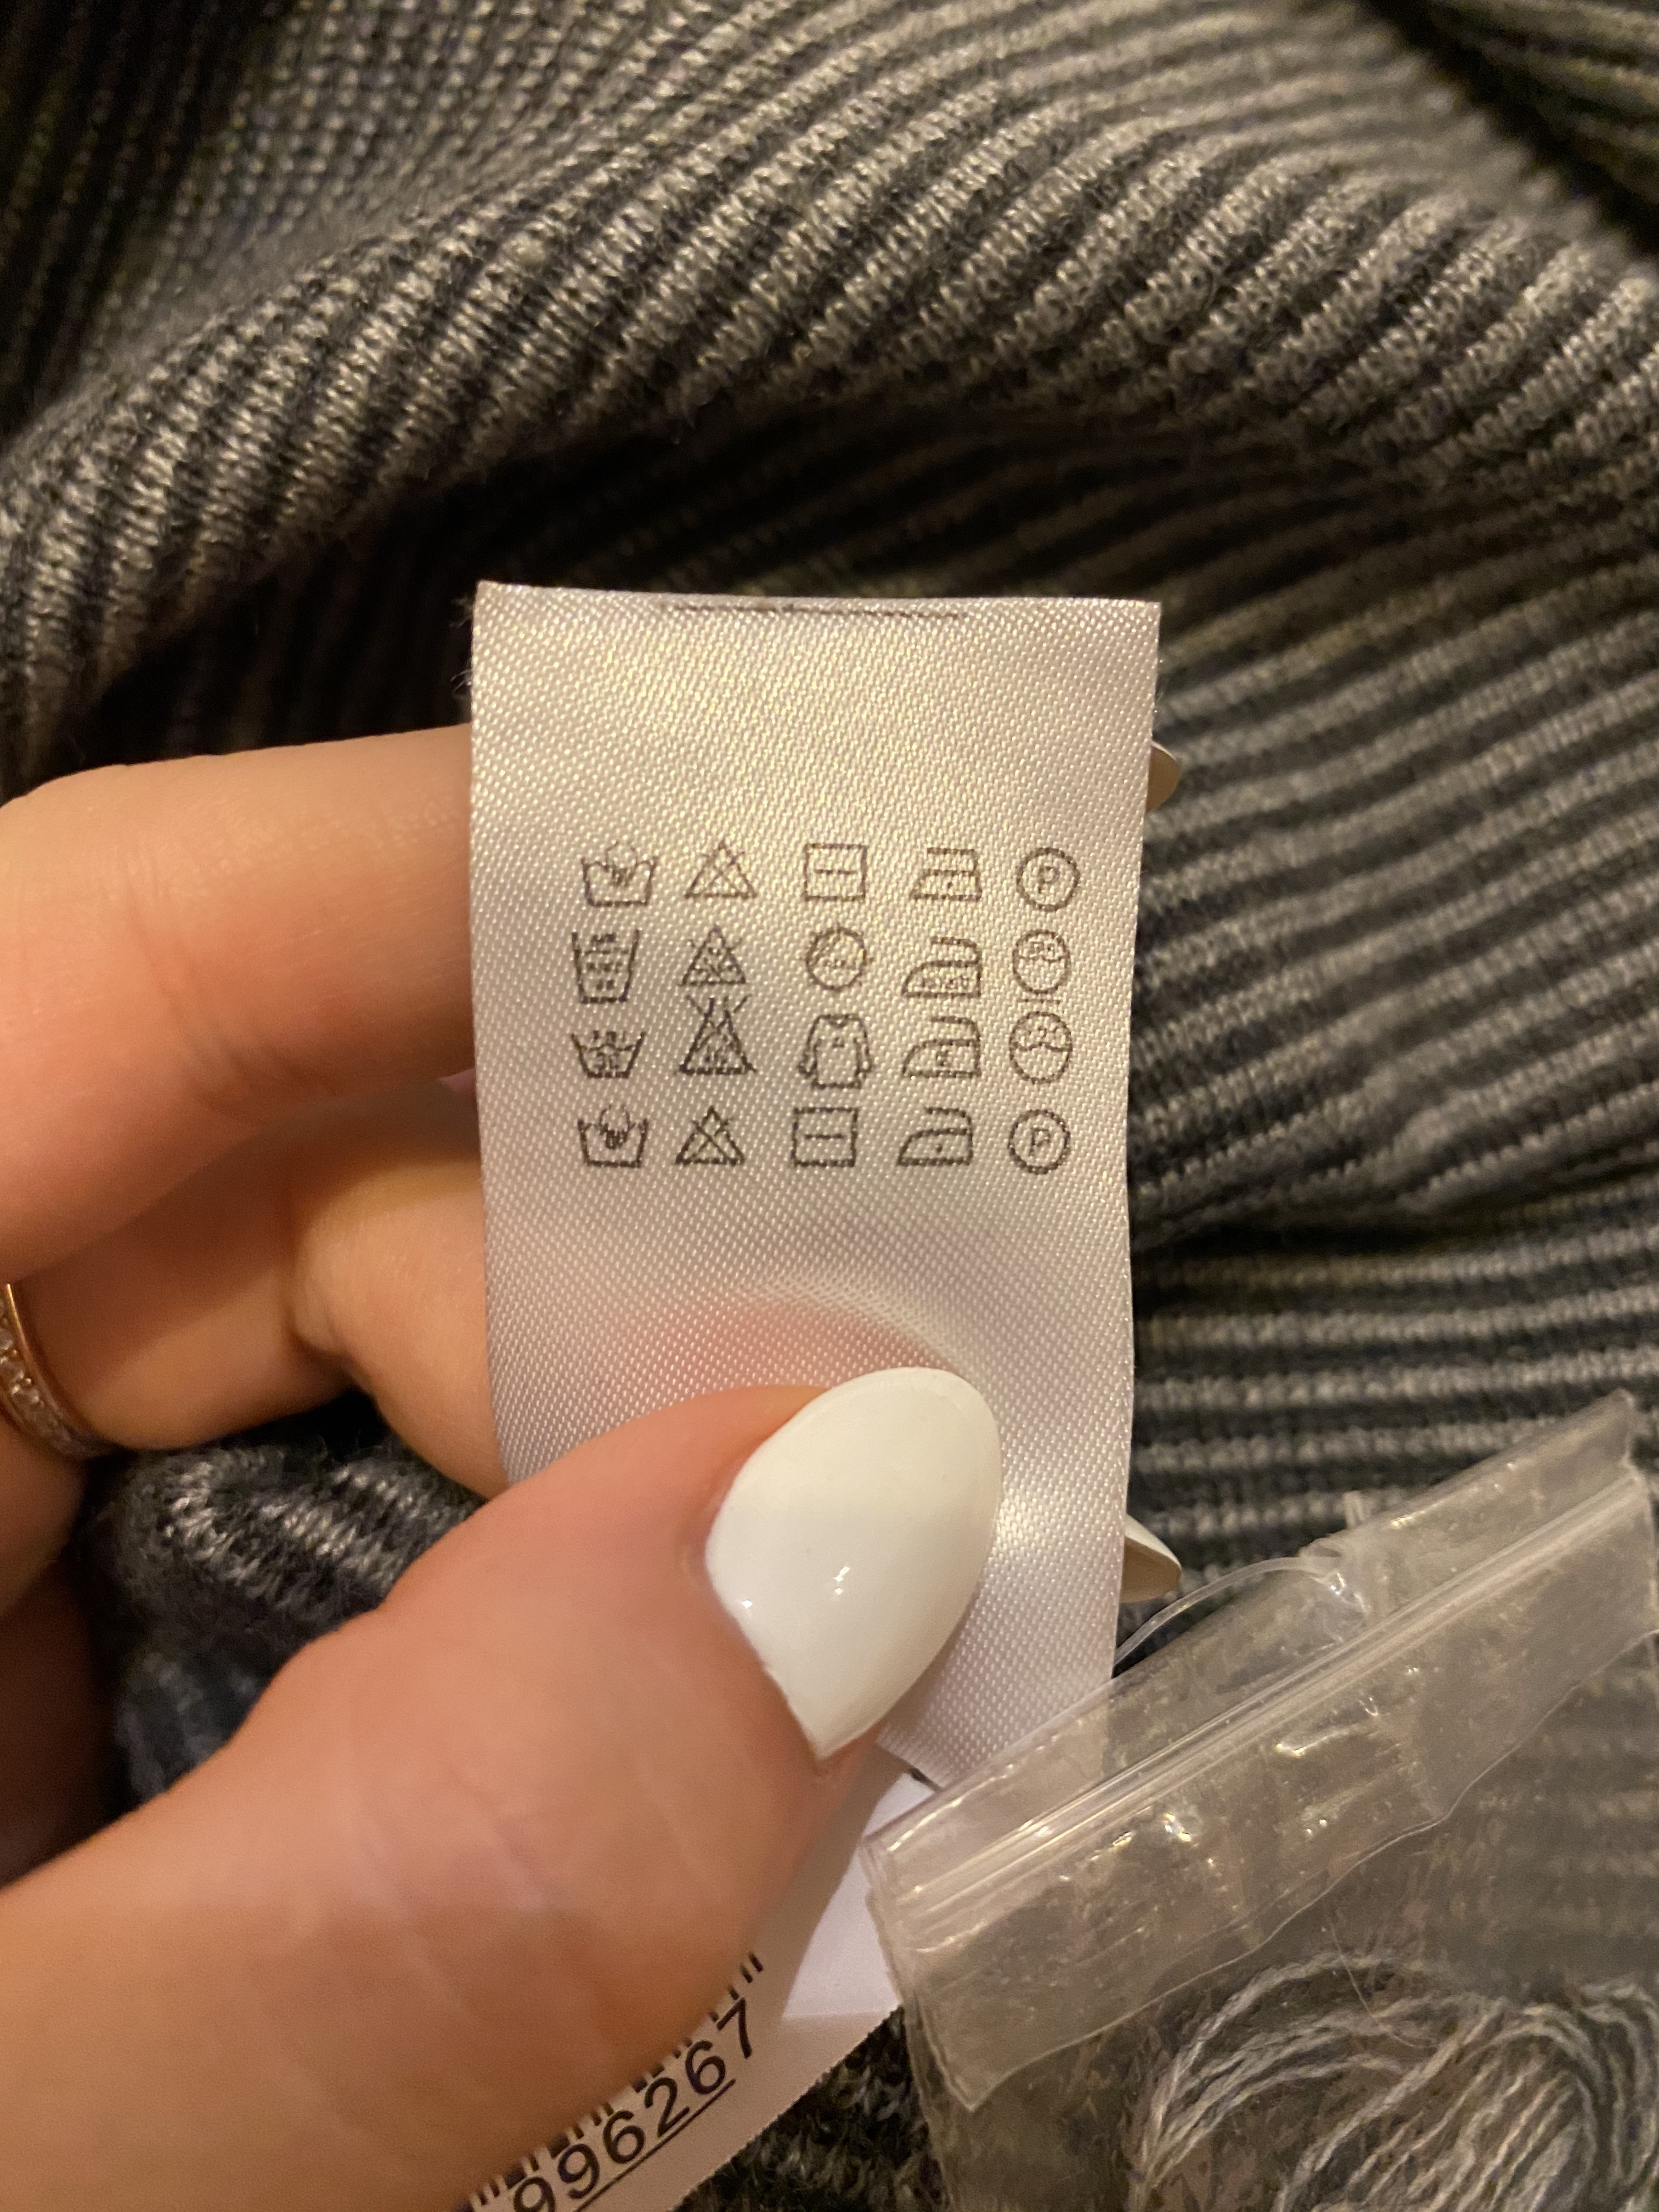do_not_bleach: (681, 836, 765, 906), (673, 1101, 753, 1169)
dry_clean_tetrachloroethylene_pce_only: (1004, 1103, 1073, 1177), (1012, 843, 1082, 916)
dry_flat: (796, 834, 871, 906), (789, 1103, 859, 1167)
hand_wash: (575, 836, 666, 913), (568, 1097, 657, 1170)
ironing_at_low_temp: (899, 1007, 986, 1082), (894, 1099, 978, 1172), (910, 838, 986, 907)
